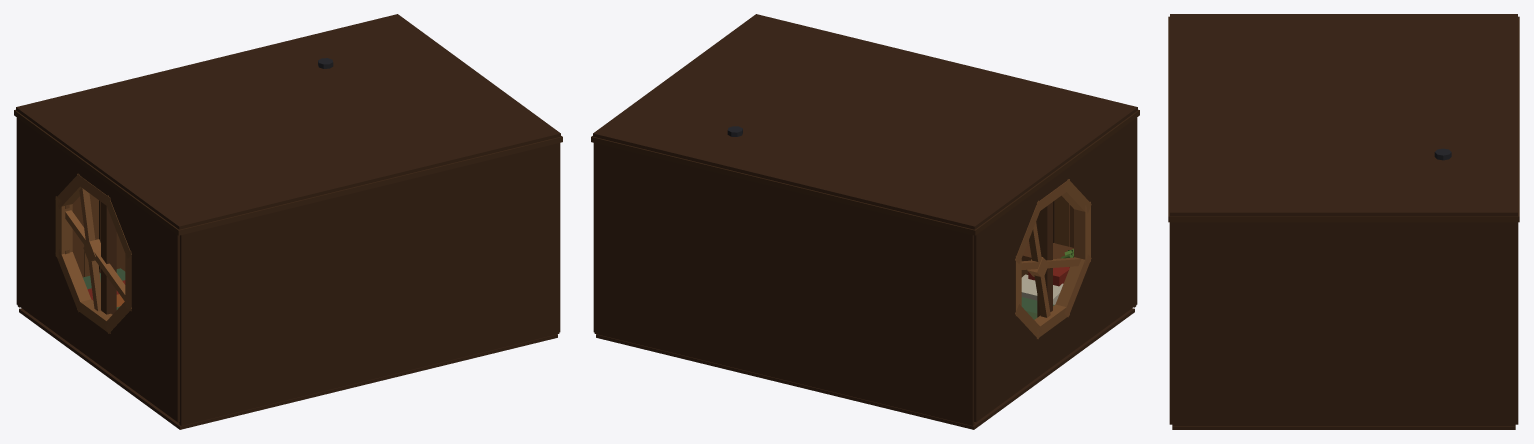
The model's file is cabin_a.glb.
3 renders of one model, left to right at view 1: azimuth 30°, elevation 25°; view 2: azimuth 150°, elevation 25°; view 3: azimuth 270°, elevation 25°, orthographic. The views are drawn at different scales.
Visible parts, largest first — view 1: cabin_a_end_wall_lining40_-1, cabin_a_ceiling_lining40, cabin_a_window_wall_lining40, cabin_a_ceiling, cabin_a_floor_lining40, cabin_a_post_L1, cabin_a_winbar_v, cabin_a_winframe_6, cabin_a_winbar_h, cabin_a_winframe_7, cabin_a_wallB_03_0; view 2: cabin_a_end_wall_lining40_1, cabin_a_ceiling_lining40, cabin_a_window_wall_lining40, cabin_a_ceiling, cabin_a_floor_lining40, cabin_a_post_L1, cabin_a_winframe_4, cabin_a_winframe_3, cabin_a_winbar_v, cabin_a_wallB_04_0.001, cabin_a_winframe_5, cabin_a_winframe_2; view 3: cabin_a_ceiling_lining40, cabin_a_solid_wall_lining40, cabin_a_ceiling, cabin_a_floor_lining40, cabin_a_end_wall_lining40_-1, cabin_a_end_wall_lining40_1.
Part boxes in pixels (bbox=[...]): cabin_a_end_wall_lining40_-1: bbox=[179, 143, 559, 425]; cabin_a_ceiling_lining40: bbox=[16, 14, 560, 229]; cabin_a_window_wall_lining40: bbox=[16, 117, 179, 422]; cabin_a_ceiling: bbox=[14, 109, 562, 235]; cabin_a_floor_lining40: bbox=[19, 308, 557, 429]; cabin_a_post_L1: bbox=[101, 202, 116, 314]; cabin_a_winbar_v: bbox=[79, 188, 101, 311]; cabin_a_winframe_6: bbox=[55, 249, 90, 312]; cabin_a_winbar_h: bbox=[65, 210, 125, 301]; cabin_a_winframe_7: bbox=[55, 196, 72, 258]; cabin_a_wallB_03_0: bbox=[72, 196, 84, 277]; cabin_a_end_wall_lining40_1: bbox=[594, 143, 974, 425]; cabin_a_ceiling_lining40: bbox=[593, 14, 1137, 229]; cabin_a_window_wall_lining40: bbox=[974, 117, 1137, 422]; cabin_a_ceiling: bbox=[591, 109, 1139, 235]; cabin_a_floor_lining40: bbox=[596, 308, 1134, 429]; cabin_a_post_L1: bbox=[1037, 202, 1052, 317]; cabin_a_winframe_4: bbox=[1055, 254, 1091, 317]; cabin_a_winframe_3: bbox=[1074, 201, 1090, 263]; cabin_a_winbar_v: bbox=[1029, 222, 1050, 317]; cabin_a_wallB_04_0.001: bbox=[1055, 195, 1069, 246]; cabin_a_winframe_5: bbox=[1034, 304, 1069, 338]; cabin_a_winframe_2: bbox=[1061, 179, 1091, 213]; cabin_a_ceiling_lining40: bbox=[1170, 14, 1517, 216]; cabin_a_solid_wall_lining40: bbox=[1172, 222, 1515, 425]; cabin_a_ceiling: bbox=[1168, 16, 1519, 222]; cabin_a_floor_lining40: bbox=[1172, 426, 1515, 429]; cabin_a_end_wall_lining40_-1: bbox=[1169, 222, 1172, 424]; cabin_a_end_wall_lining40_1: bbox=[1515, 222, 1518, 424].
Size of the model in its own units: 6.2 by 3.22 by 4.6.
